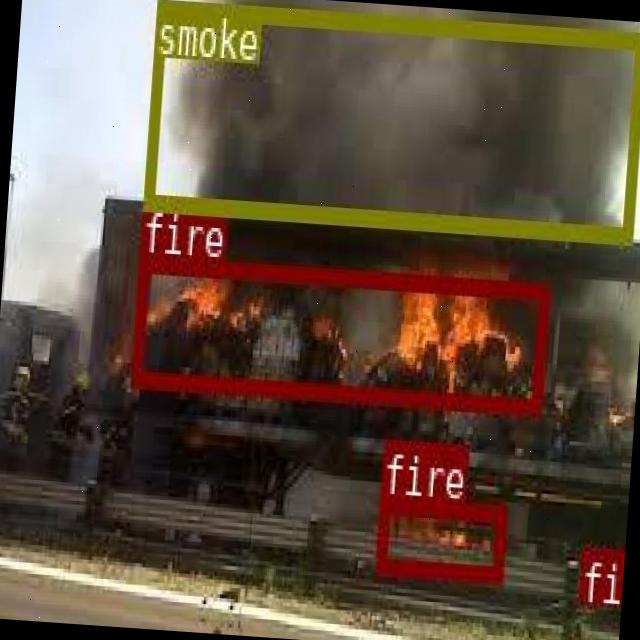fire: (129, 255, 547, 412), (375, 492, 507, 578), (578, 544, 610, 574)
smoke: (142, 0, 640, 240)
